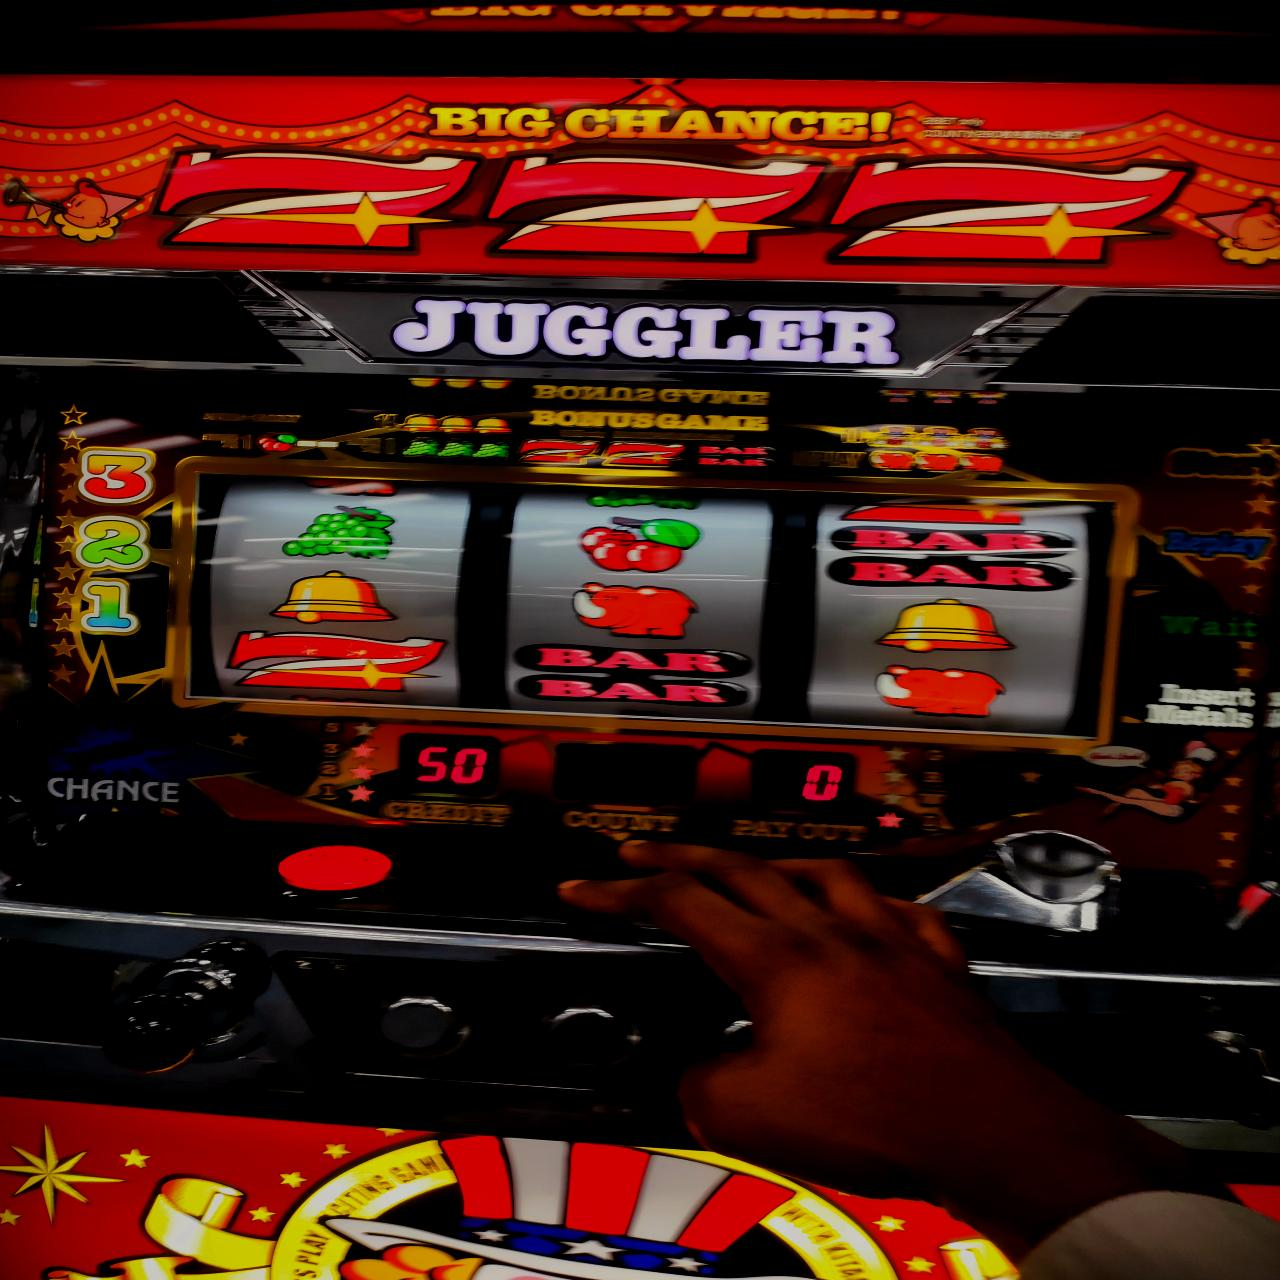7: (225, 631, 445, 693)
8: (570, 580, 697, 642), (872, 663, 1008, 720)
Display: (182, 461, 1107, 738)
bar: (822, 527, 1083, 597), (509, 641, 748, 707)
bell: (871, 593, 1016, 655), (270, 568, 399, 627)
cherry: (573, 515, 707, 573)
grape: (275, 501, 396, 559)
